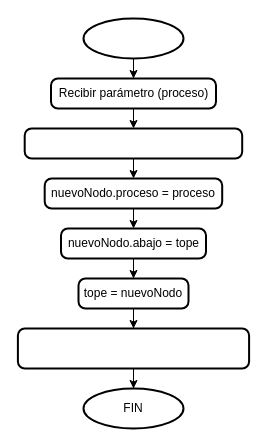
The diagram is 268 pixels wide and 446 high, and some of its shapes have lost their labels. The centre of each missing label's shape, as x and y in pixels:
Crear nuevoNodo = nuevo NodoPila: [133,143]
Escribir "Memoria asignada exitosamente al proceso: ", proceso.nombre: [133,348]
INICIO: [133,38]
